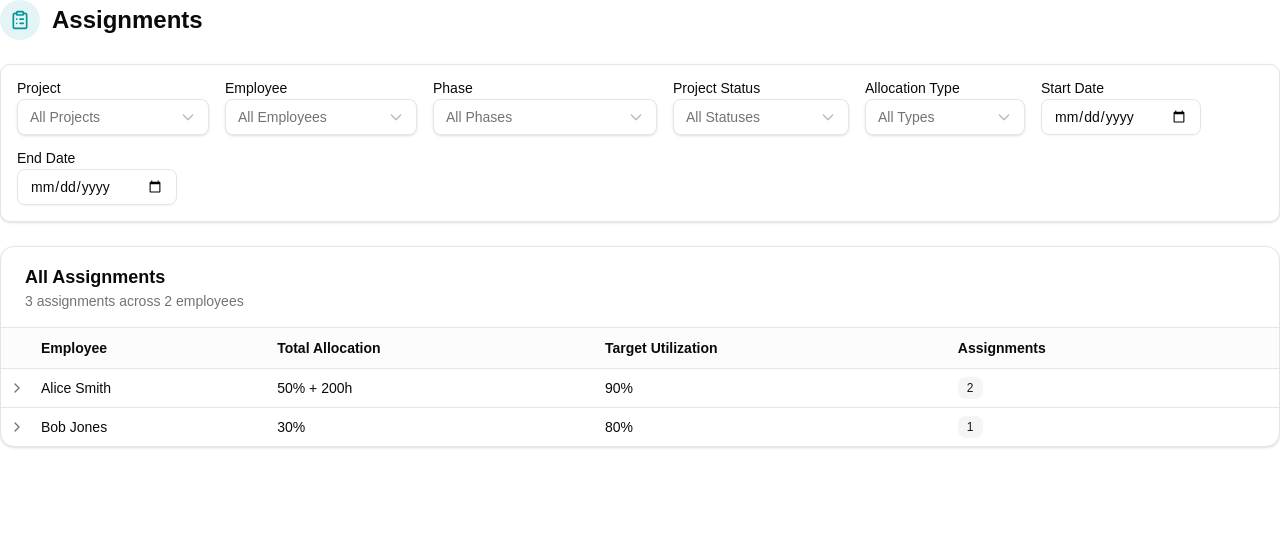
Assignments Page › should collapse employee group on second click
Click the row with test id "employee-group-emp-1".
click(640, 388)  # box [1,368,1279,407]
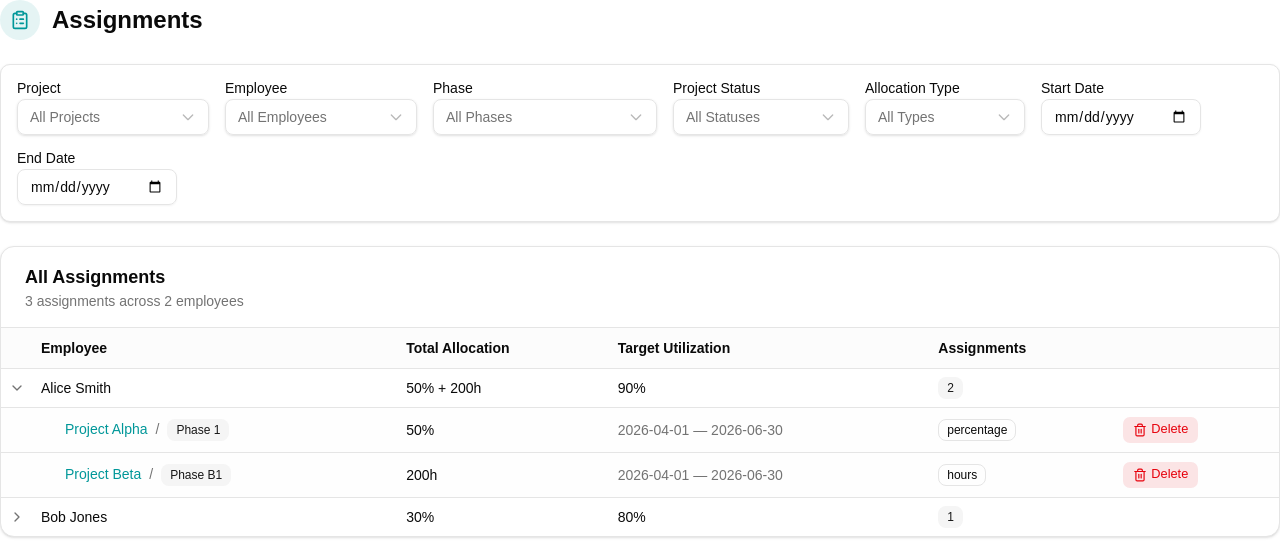
Now the row with test id "assignment-row-assign-1" is shown, box [1,407,1279,452]
Click the row with test id "employee-group-emp-1".
click(640, 388)  # box [1,368,1279,407]
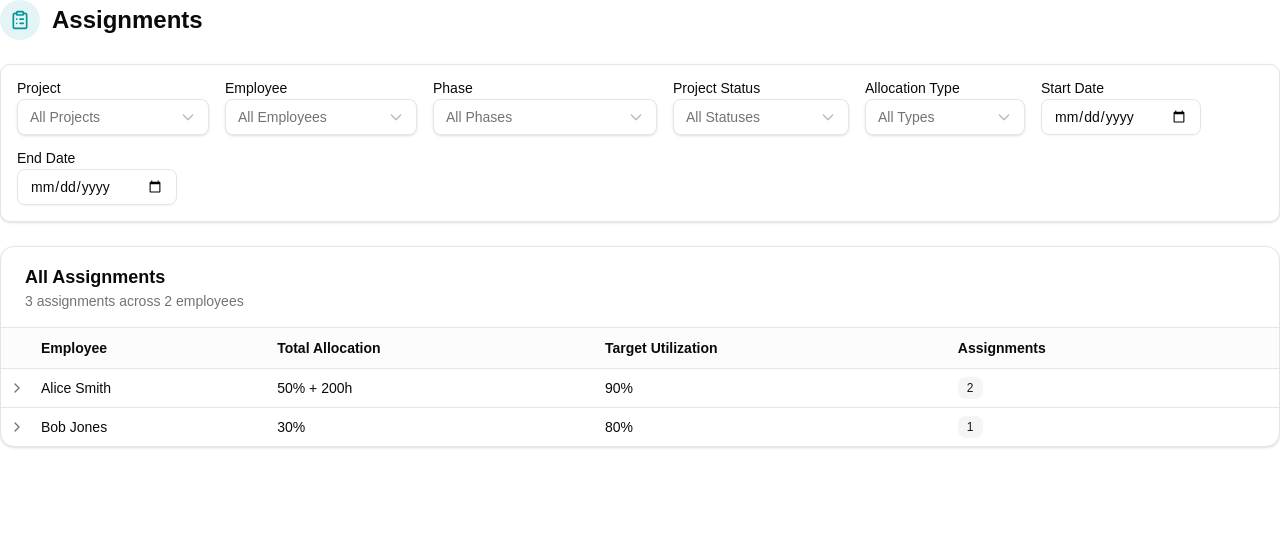
Now the row with test id "assignment-row-assign-1" is gone
